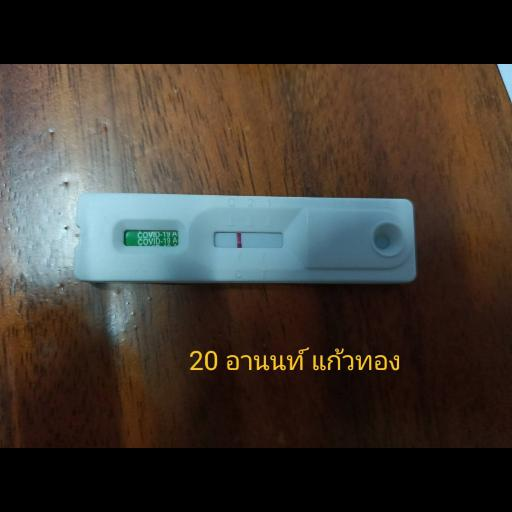Neg: (76, 192, 412, 282)
